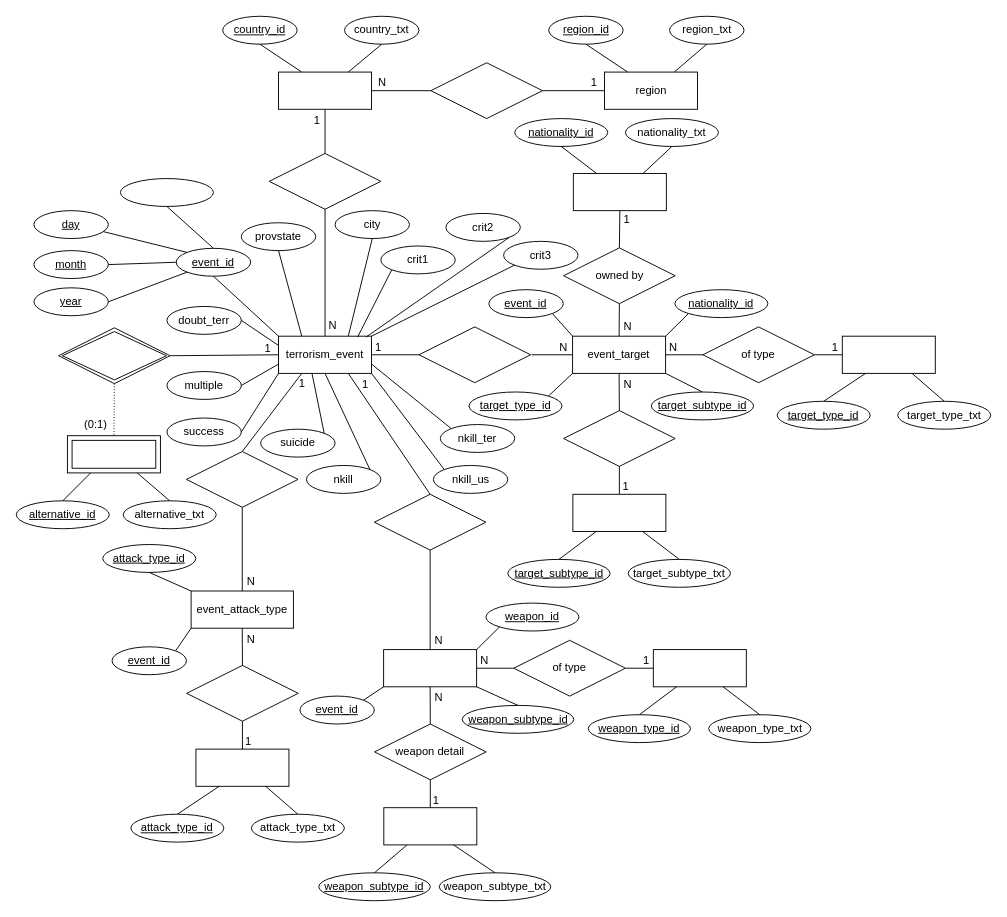
This 1007x917 diagram has some shape labels left out. The shapes that lost their labels are listed below. From the top down, each one's centre as x and y in pixels, then its label:
At point (325, 90): "country".
At point (486, 90): "part of".
At point (166, 192): "case_number".
At point (324, 181): "occurs in".
At point (619, 192): "nationality".
At point (114, 355): "can have".
At point (474, 354): "targeted".
At point (888, 354): "target_type".
At point (113, 454): "alternative_dsn".
At point (619, 438): "target detail".
At point (242, 479): "attack".
At point (429, 521): "weapon used".
At point (619, 512): "target_subtype".
At point (430, 668): "event_weapon".
At point (699, 668): "weapon_type".
At point (242, 692): "used".
At point (242, 767): "attack_type".
At point (430, 826): "weapon_subtype".
